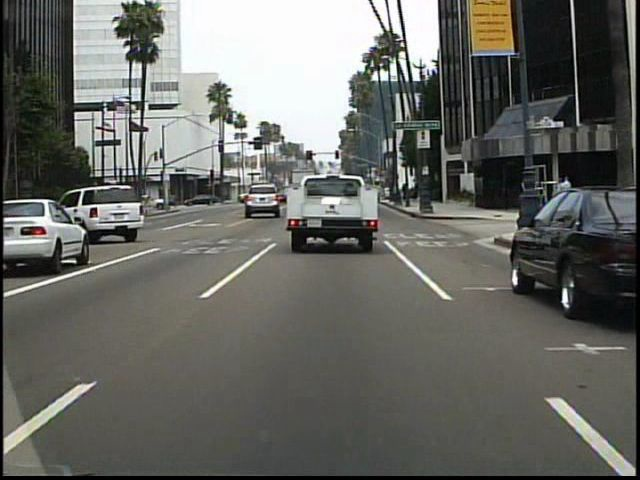person: (560, 172, 575, 213), (163, 189, 176, 214)
